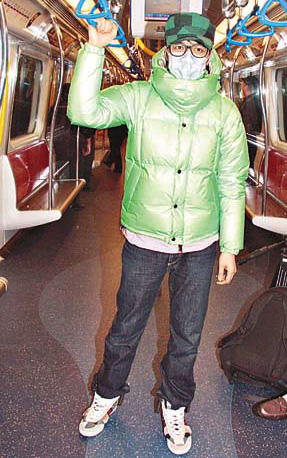face_mask: (169, 30, 207, 82)
